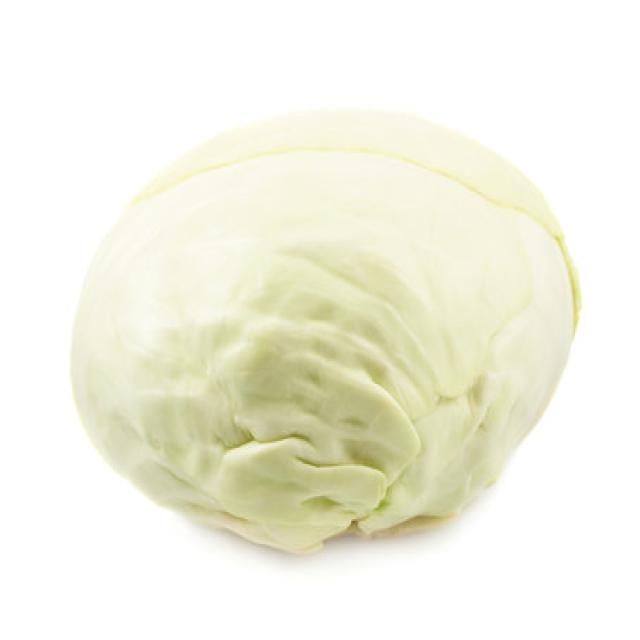Cabbage: (68, 103, 582, 555)
